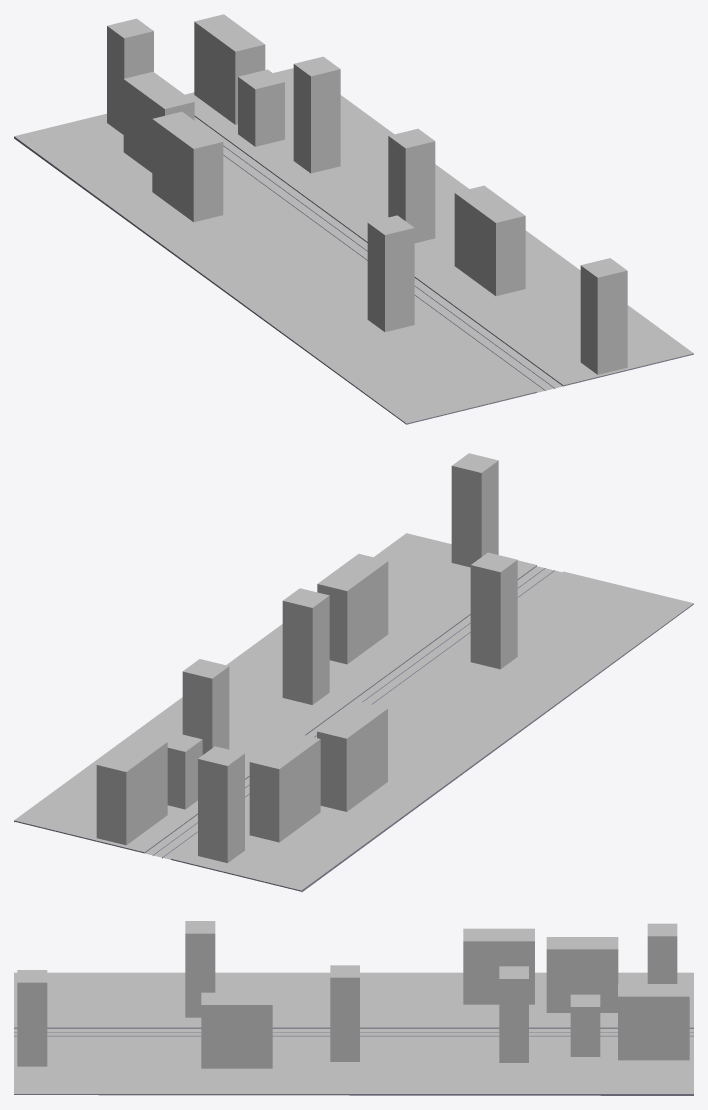
File: road.obj
3 views of the same model, one above another, from view 1: azimuth 30°, elevation 25°; view 2: azimuth 150°, elevation 25°; view 3: azimuth 270°, elevation 25° (orthographic). The views are drawn at different scales.
Visible parts, largest first — view 1: Road_bricks, Road_asphalt_02.004, Cube.004_asphalt_02.003, Cube.009_asphalt_02.003, Cube.005_asphalt_02.003, Cube.007_asphalt_02.003, Cube.008_asphalt_02.003, Cube.002_asphalt_02.003, Cube.006_asphalt_02.003, Cube.003_asphalt_02.003, Cube_asphalt_02.003, Cube.001_asphalt_02.003 (+1 smaller); view 2: Road_bricks, Cube.002_asphalt_02.003, Cube.003_asphalt_02.003, Cube.004_asphalt_02.003, Cube.009_asphalt_02.003, Cube.007_asphalt_02.003, Cube.006_asphalt_02.003, Cube_asphalt_02.003, Cube.008_asphalt_02.003, Road_asphalt_02.004, Cube.005_asphalt_02.003, Road_Trottoir (+1 smaller); view 3: Road_bricks, Cube.002_asphalt_02.003, Cube.009_asphalt_02.003, Cube.003_asphalt_02.003, Road_asphalt_02.004, Cube.004_asphalt_02.003, Road_Trottoir, Cube.008_asphalt_02.003, Cube.005_asphalt_02.003, Cube.006_asphalt_02.003, Cube.007_asphalt_02.003, Cube.001_asphalt_02.003 (+1 smaller).
Boxes of the visible parts, x1,y1,x2,y2 form: Road_bricks: (14,68,693,423); Road_asphalt_02.004: (194,117,562,392); Cube.004_asphalt_02.003: (152,111,223,222); Cube.009_asphalt_02.003: (454,185,525,295); Cube.005_asphalt_02.003: (293,56,340,173); Cube.007_asphalt_02.003: (367,215,414,331); Cube.008_asphalt_02.003: (580,258,627,374); Cube.002_asphalt_02.003: (194,14,265,124); Cube.006_asphalt_02.003: (388,128,435,243); Cube.003_asphalt_02.003: (123,71,194,172); Cube_asphalt_02.003: (107,18,153,134); Cube.001_asphalt_02.003: (238,69,284,146); Road_bricks: (14,533,693,890); Cube.002_asphalt_02.003: (96,734,167,845); Cube.003_asphalt_02.003: (249,732,320,842); Cube.004_asphalt_02.003: (317,701,387,811); Cube.009_asphalt_02.003: (317,554,388,664); Cube.007_asphalt_02.003: (470,552,517,669); Cube.006_asphalt_02.003: (282,588,329,704); Cube_asphalt_02.003: (198,746,244,862); Cube.008_asphalt_02.003: (451,453,498,567); Road_asphalt_02.004: (145,566,561,859); Cube.005_asphalt_02.003: (182,659,229,754); Road_Trottoir: (14,565,693,892); Road_bricks: (14,972,693,1093); Cube.002_asphalt_02.003: (618,984,689,1060); Cube.009_asphalt_02.003: (201,992,272,1068); Cube.003_asphalt_02.003: (546,937,618,1012); Road_asphalt_02.004: (14,1028,693,1038); Cube.004_asphalt_02.003: (463,928,534,1004); Road_Trottoir: (14,1027,693,1095); Cube.008_asphalt_02.003: (17,970,47,1066); Cube.005_asphalt_02.003: (499,966,528,1062); Cube.006_asphalt_02.003: (330,965,359,1061); Cube.007_asphalt_02.003: (185,921,215,1017); Cube.001_asphalt_02.003: (570,994,600,1056).
Bounding box in the file's own units: 577 × 191 × 1365.
